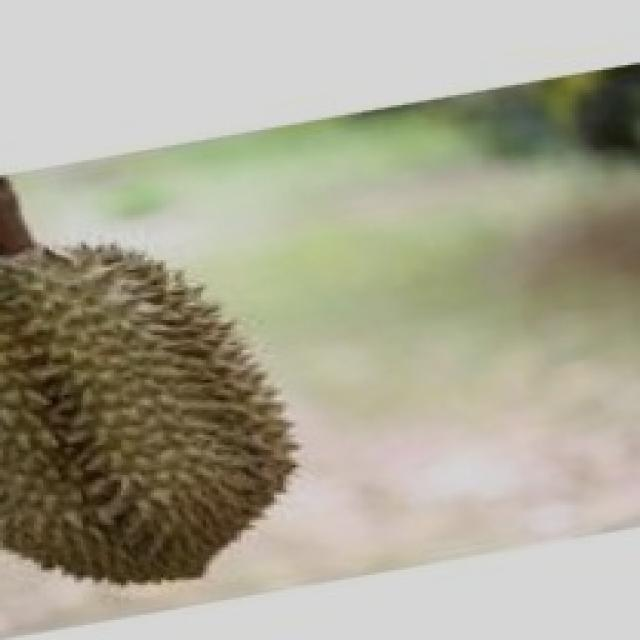fruit: (0, 220, 332, 615)
